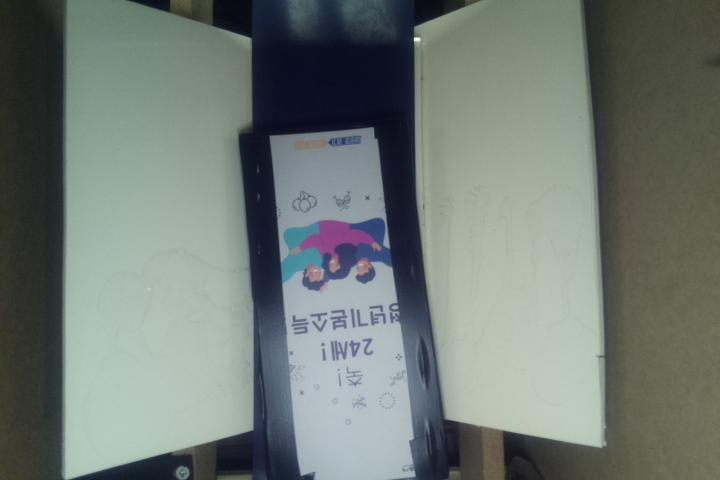book: (236, 114, 454, 480)
